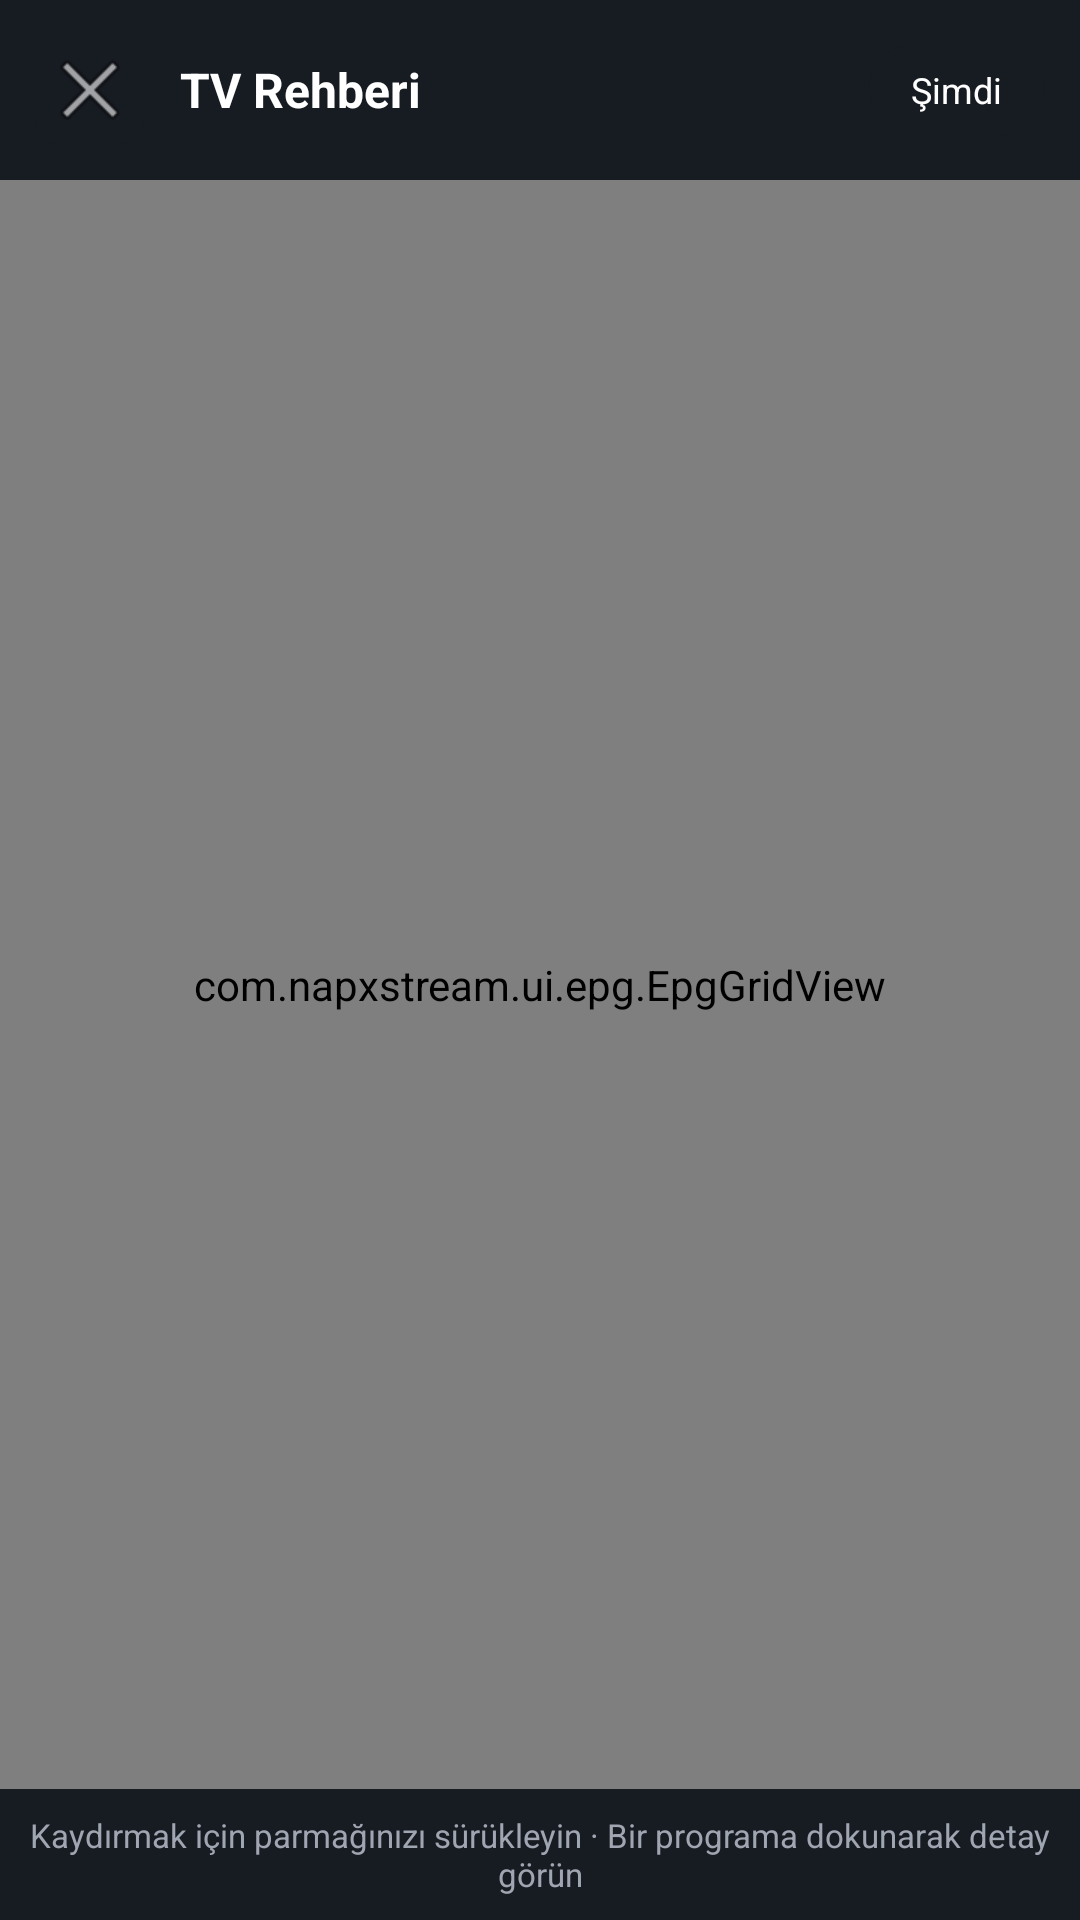

Icons on this 1080x1920 Android screen, each with its box as (x1, y1, x2, y2):
close clear cancel: (63, 63, 117, 117)
